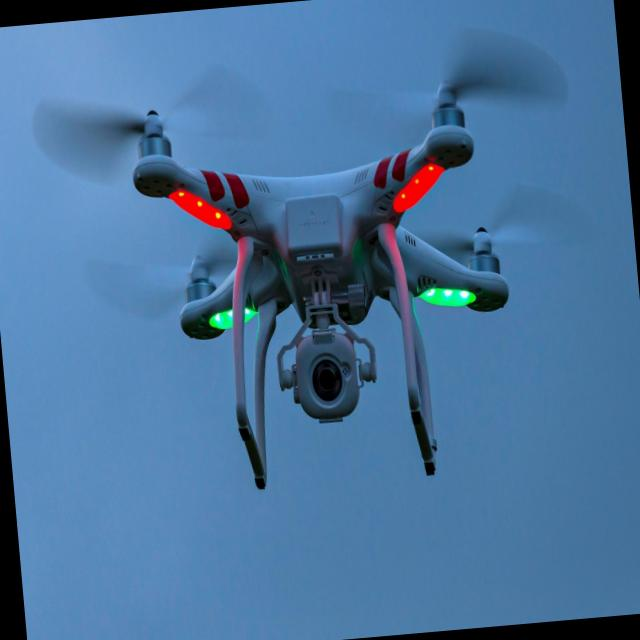drone: (110, 74, 528, 504)
